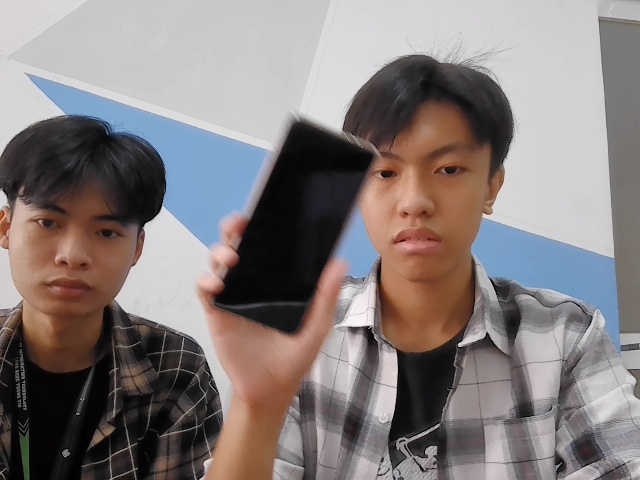human: (351, 46, 520, 281), (1, 111, 165, 324)
phone: (211, 108, 378, 335)
